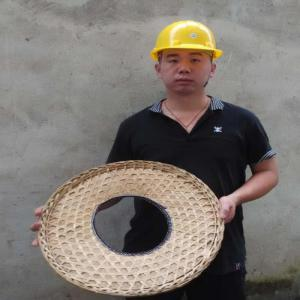yellow: (152, 20, 223, 99)
